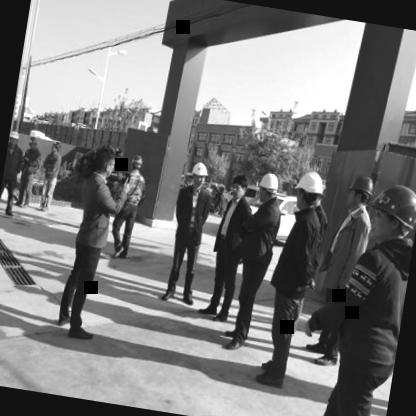helmet: (366, 179, 416, 246), (291, 167, 325, 213), (345, 172, 378, 210), (255, 170, 281, 203), (191, 159, 209, 187), (7, 127, 21, 150), (128, 154, 143, 173), (50, 139, 62, 154), (26, 134, 36, 150)
